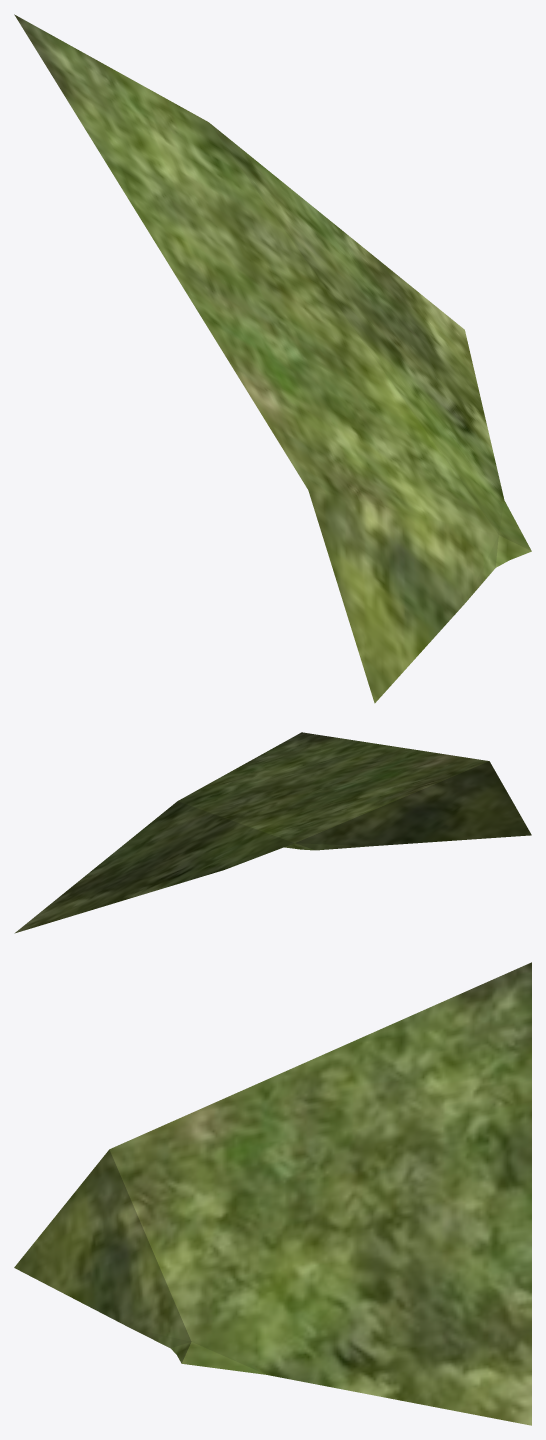
The picture shows the model from 3 angles, top to bottom: view 1: azimuth 30°, elevation 25°; view 2: azimuth 150°, elevation 25°; view 3: azimuth 270°, elevation 25°; orthographic projection. The views are drawn at different scales.
Size of the model in its own units: 1.38 by 1.25 by 1.91.
Materials: 1 (1 with a texture image).
